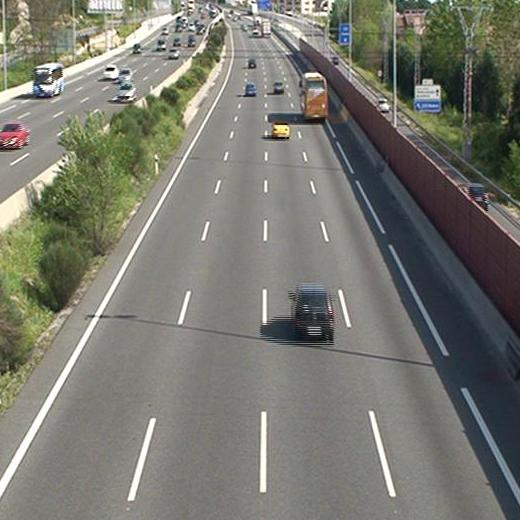bus: (300, 72, 327, 120)
car: (291, 285, 333, 337), (273, 121, 289, 138), (245, 83, 256, 97), (273, 82, 283, 94), (247, 58, 257, 69)
